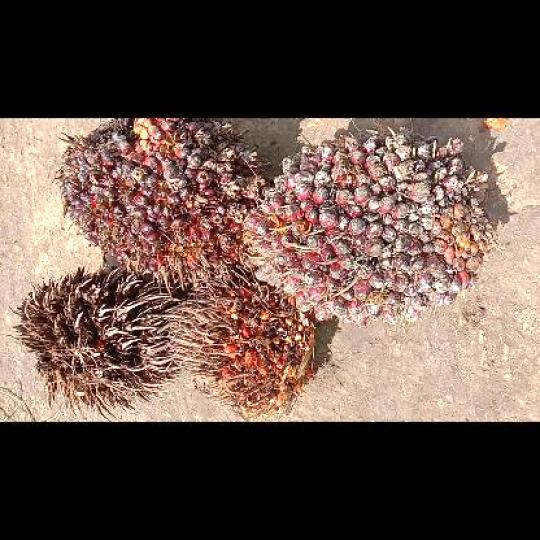kurang masak: (241, 128, 499, 329)
masak: (51, 119, 271, 278)
terlalu masak: (173, 280, 323, 420)
